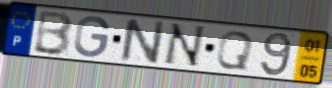9: (258, 31, 295, 78)
B: (31, 9, 75, 58)
G: (72, 14, 113, 59)
N: (119, 17, 168, 66), (160, 22, 208, 69)
Q: (213, 30, 255, 72)
